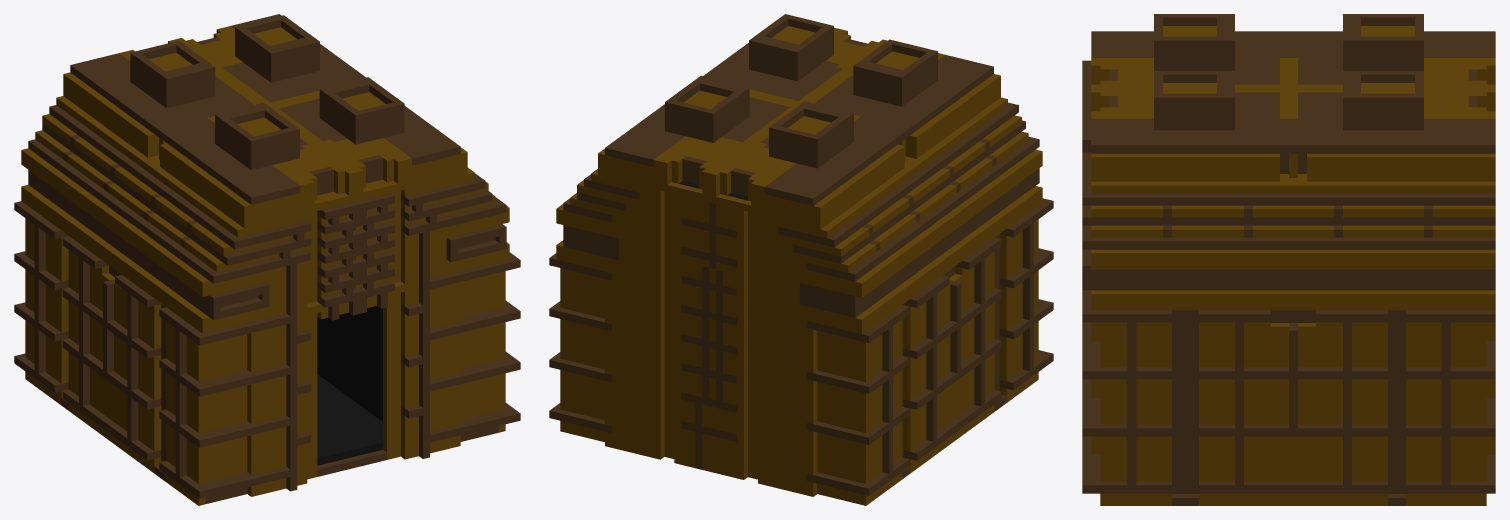
Rendered from HouseLv1.obj.
3 renders of one model, left to right at view 1: azimuth 30°, elevation 25°; view 2: azimuth 150°, elevation 25°; view 3: azimuth 270°, elevation 25°, orthographic. The views are drawn at different scales.
Size of the model in its own units: 46 by 45 by 46.
1 material, 1 textured.
